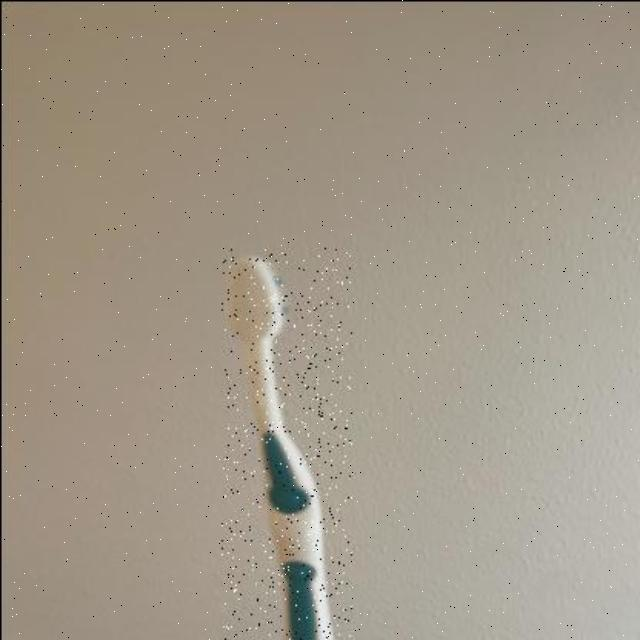toothbrush: (220, 246, 350, 640)
